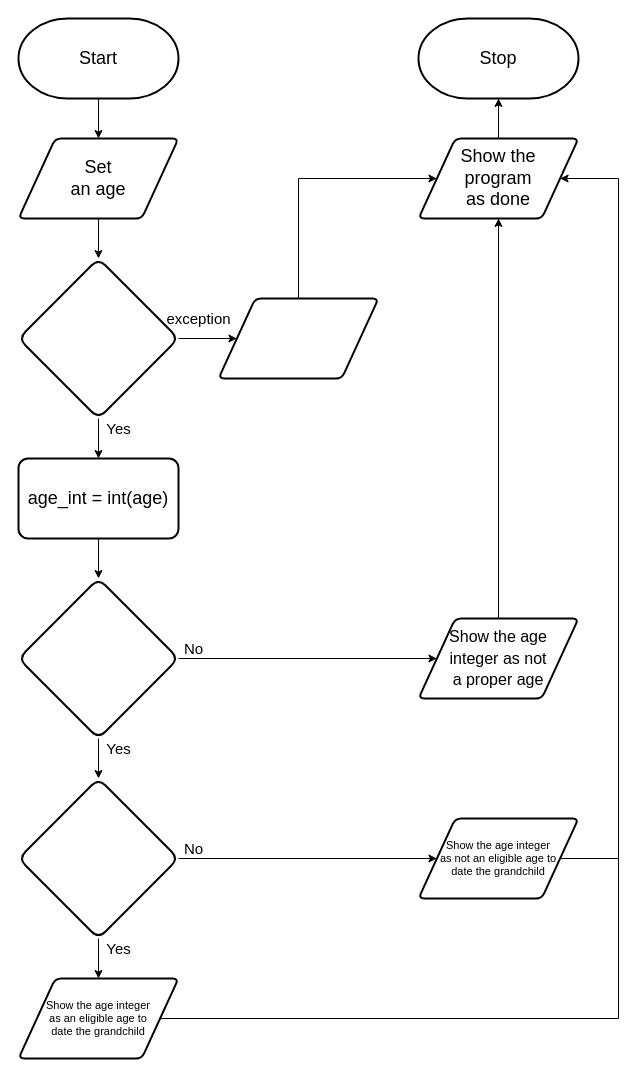
The diagram is 644 pixels wide and 1076 high, and some of its shapes have lost their labels. The shapes that lost their labels are listed below. From the top down, each one's centre as x and y in pixels, then its label:
(98,338): try
(298,338): Show the chosen age as not an integer
(98,658): if age_int >= 25 and age_int <= 40 and not age_int < 0
(98,858): if age_int > 25 or age_int < 40 and not age_int < 0
